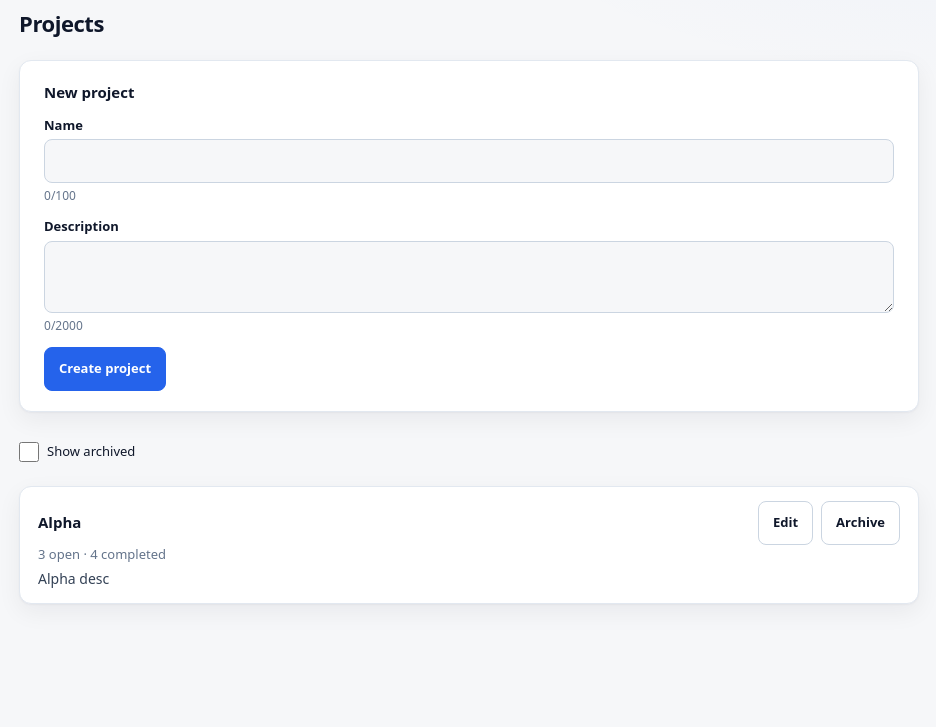
ProjectsPage › hides archived by default and shows them when toggled
Expected: the link "Beta" is not shown
What coordinates should you click on to do the following:
click the checkbox labelled "Show archived"
I would click on:
 (29, 452)
Its box is [19,442,39,462].
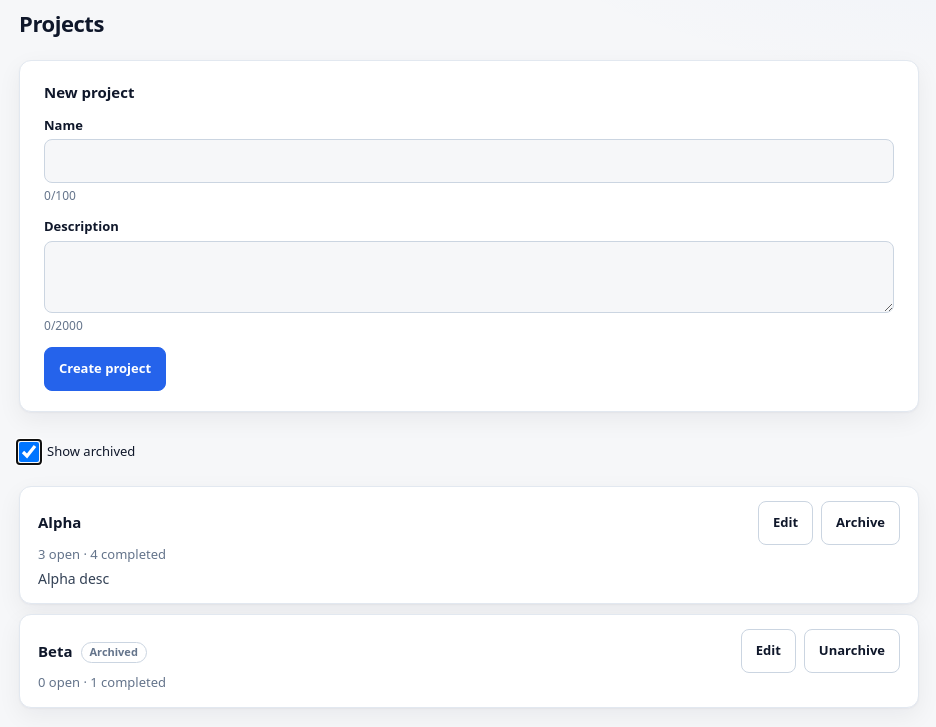
Now the link "Beta" is shown, box [38,641,72,661]
Now the text "Archived" is shown, box [80,642,147,663]
Now the button with aria-label "Unarchive Beta" is shown, box [804,629,900,673]
